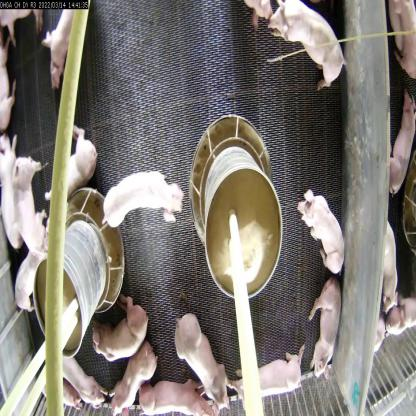Pig: (259, 0, 345, 96), (7, 136, 60, 260), (85, 288, 159, 364), (230, 336, 310, 400), (176, 302, 227, 402), (43, 119, 98, 205), (102, 169, 184, 226), (296, 187, 347, 275), (306, 281, 342, 392), (0, 125, 27, 267), (10, 238, 59, 314), (112, 342, 163, 415), (386, 87, 416, 210), (42, 1, 80, 85), (139, 383, 218, 415)
